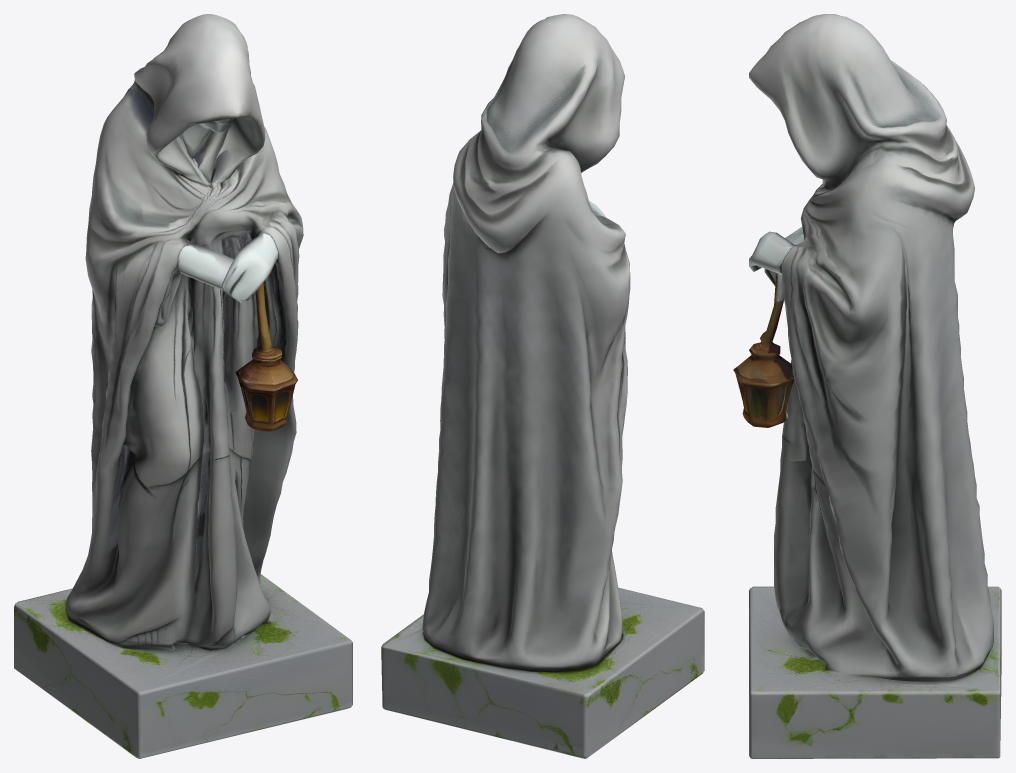
Rendered from garden_statue_mourner.glb.
The picture shows the model from 3 angles, left to right: view 1: azimuth 30°, elevation 25°; view 2: azimuth 150°, elevation 25°; view 3: azimuth 270°, elevation 25°; orthographic projection. The views are drawn at different scales.
Size of the model in its own units: 0.6341 by 1.91 by 0.6693.
Materials: 1 (1 with a texture image).
